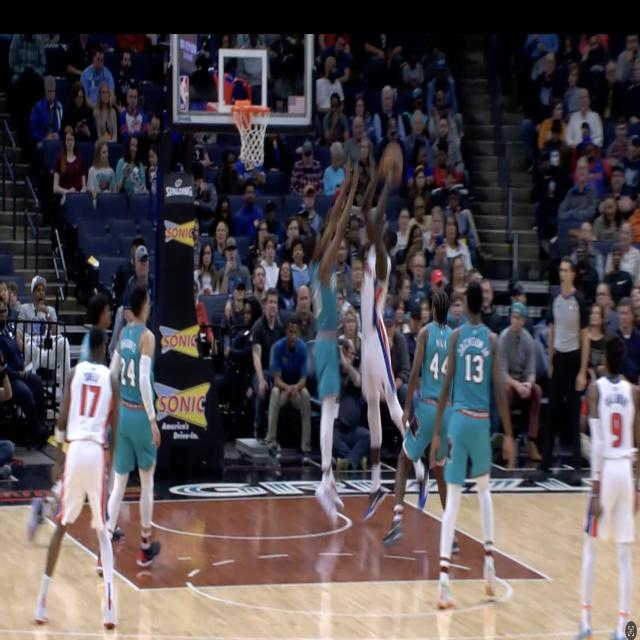no foul: (308, 131, 419, 543), (399, 264, 509, 611), (439, 282, 515, 624)
